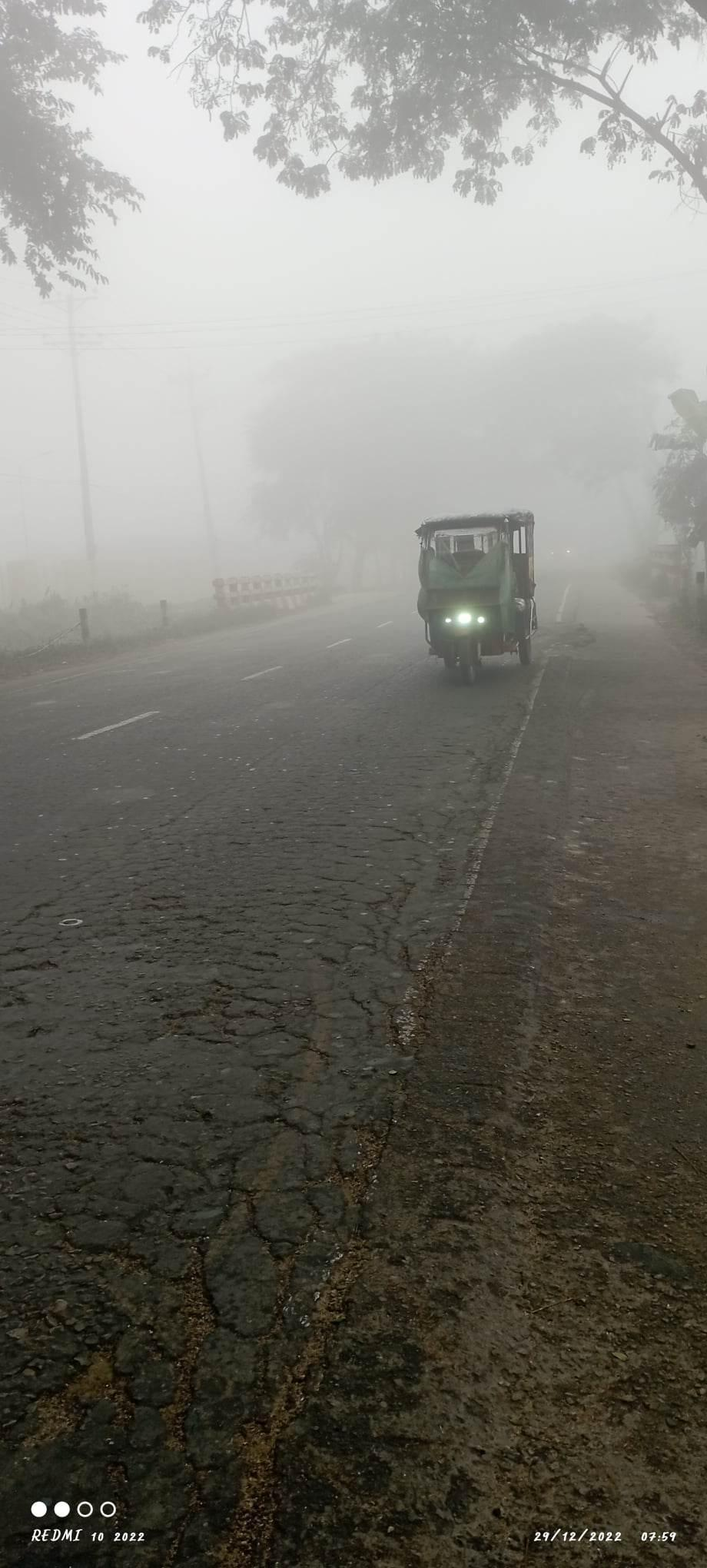Car: (393, 499, 579, 690)
